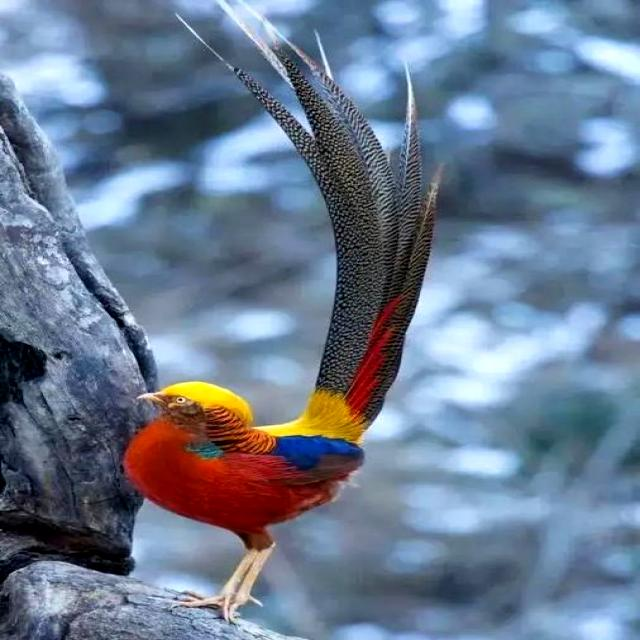Chrysolophus pictus feather: (174, 0, 441, 426)
